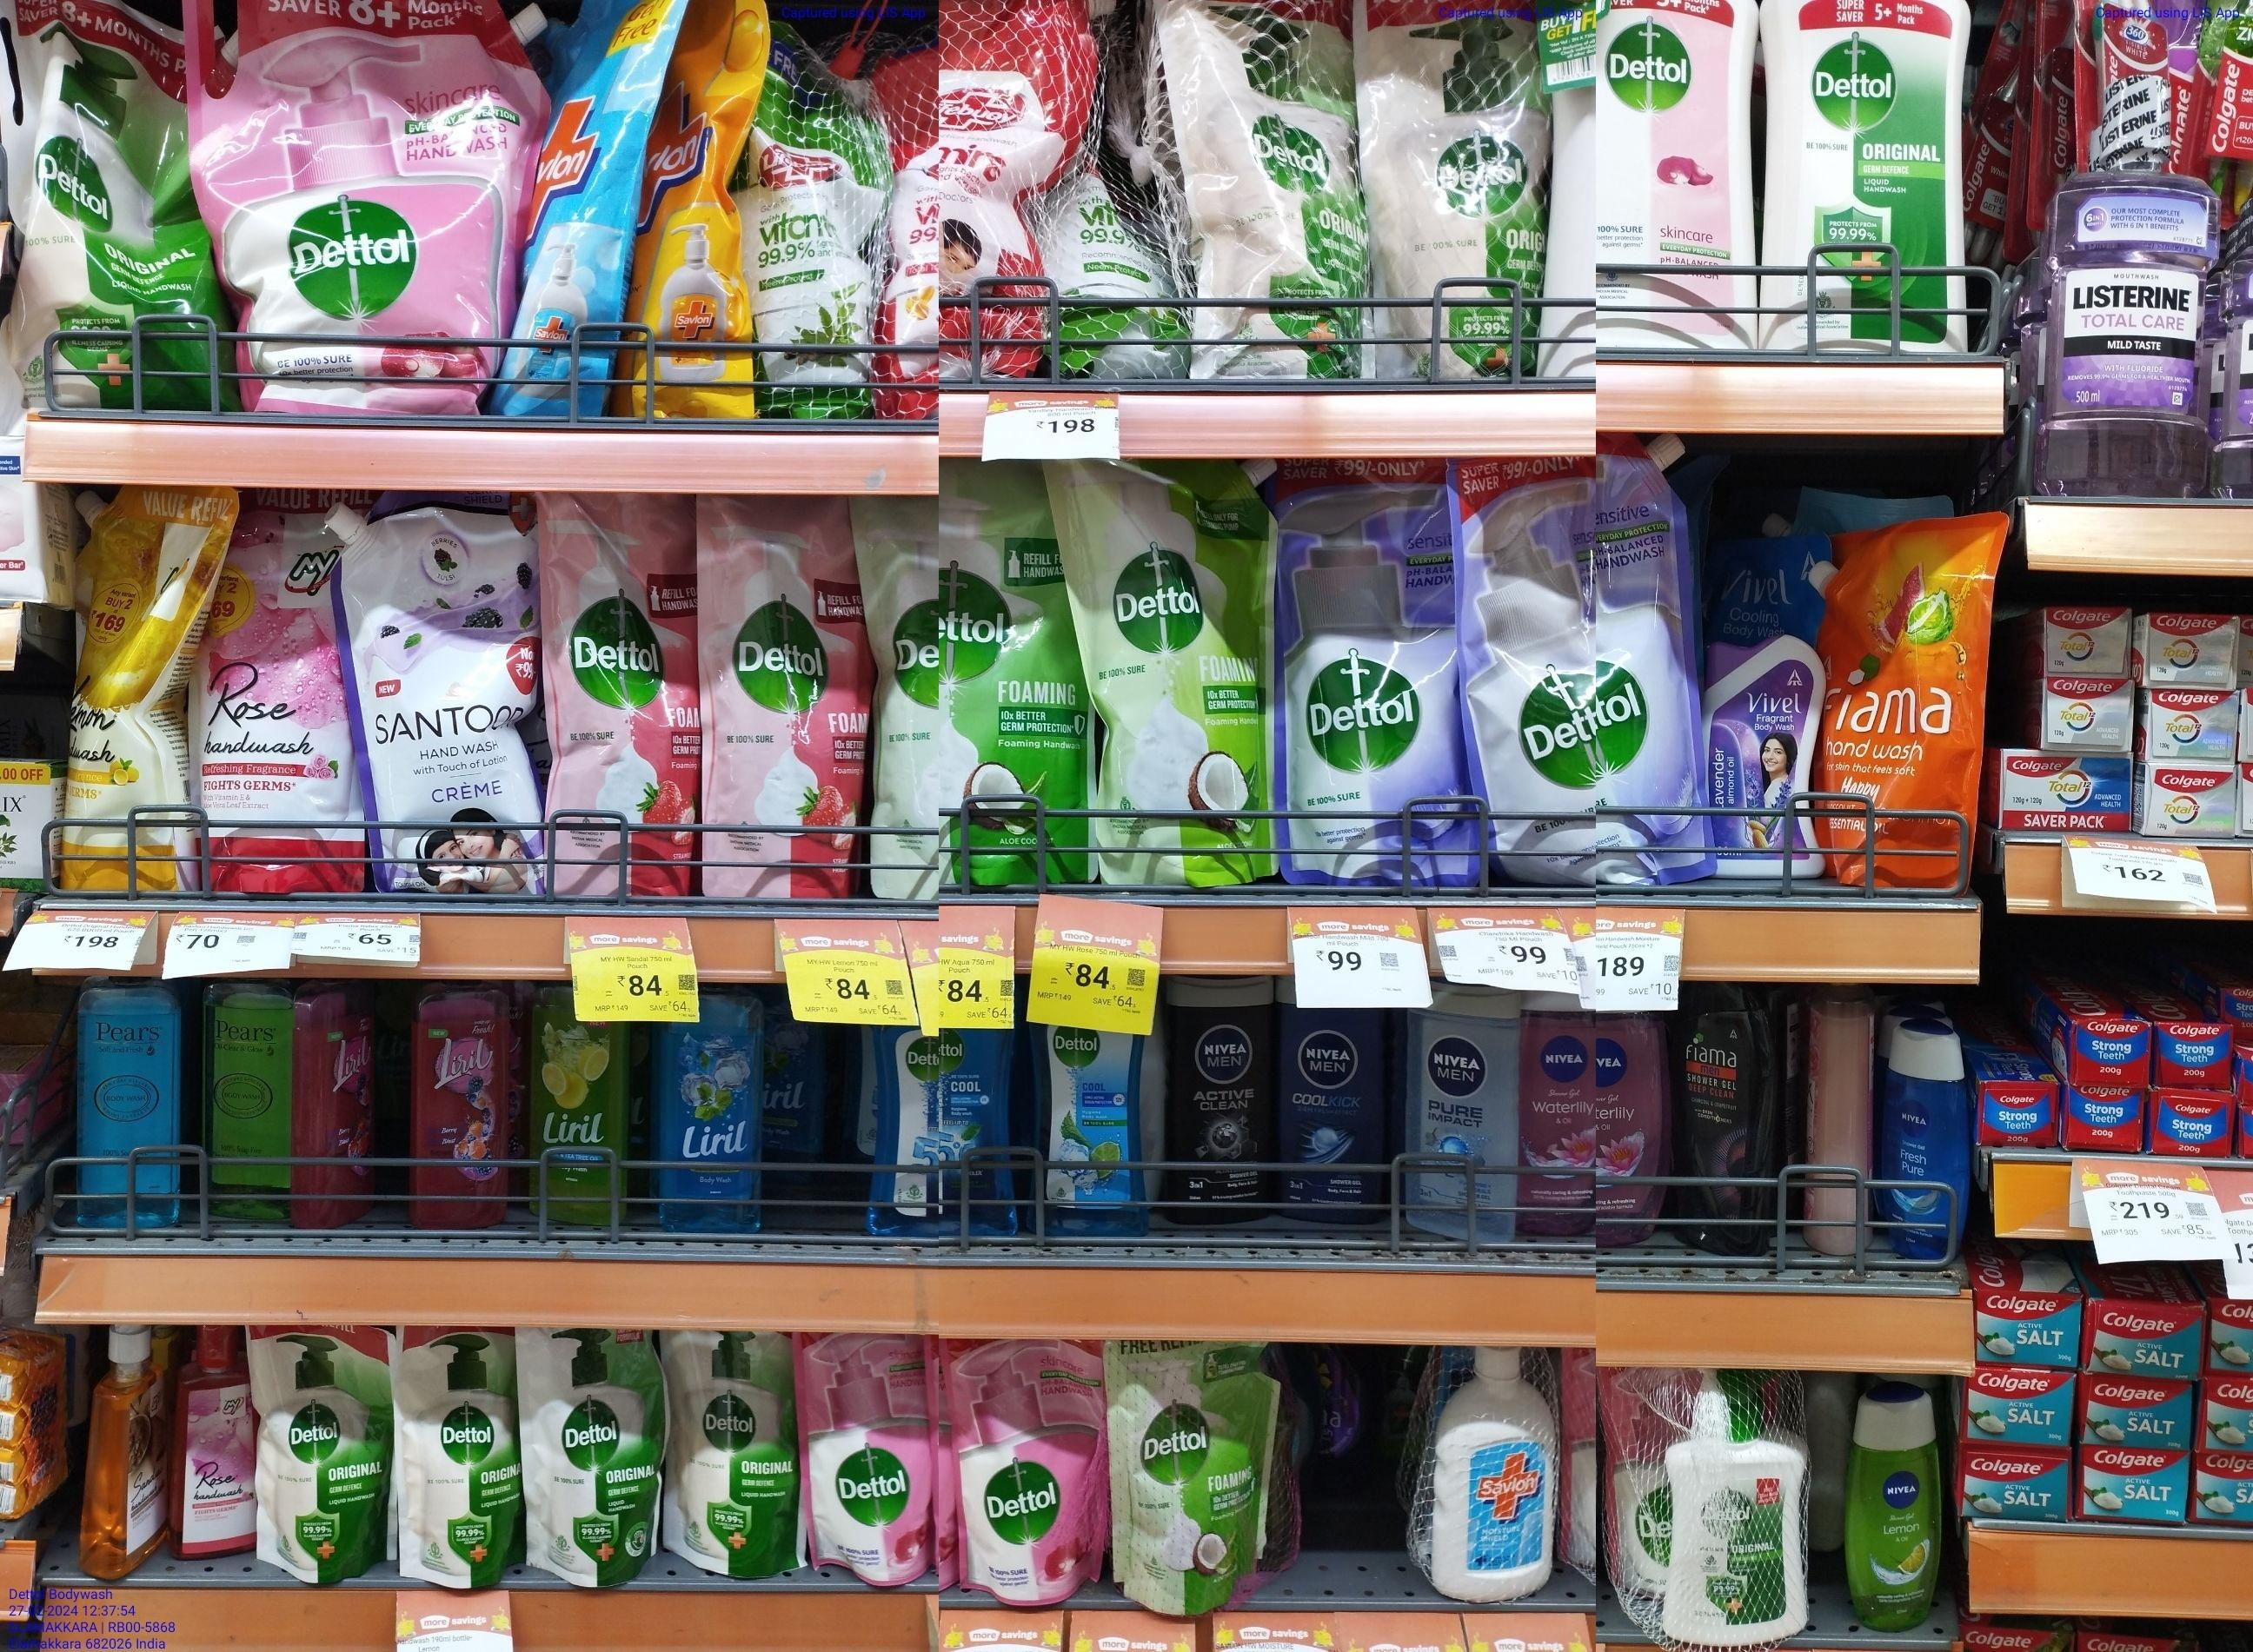Dettol_Bodywash_Cool: (936, 1000, 1006, 1239)
Liril_Cooling_Mint_Body_Wash_250ML: (652, 984, 768, 1234)
Liril_Lime_and_Tea_Tree_Oil_Body_Wash_250ML: (530, 986, 624, 1227)
Nivea_Shower_Gel_Lemon_and_Oil_250ML: (1849, 1388, 1947, 1638)
Nivea_Shower_Gel_Waterlily_and_Oil_250ML: (1522, 995, 1595, 1243), (1597, 1014, 1665, 1252)
Pears_Pure_Glycerin_and_Lemon_Flower_Extracts_Body_Wash_250ML: (199, 974, 294, 1232)
Pears_Pure_Glycerin_and_Mint_Extracts_Body_Wash_250ML: (75, 977, 184, 1232)
